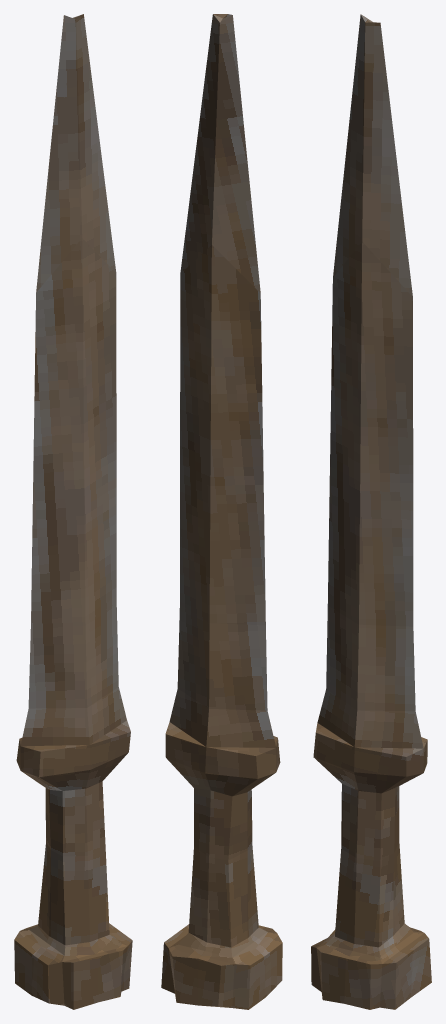
Rendered from Rusty Sword.fbx.
3 renders of one model, left to right at view 1: azimuth 30°, elevation 25°; view 2: azimuth 150°, elevation 25°; view 3: azimuth 330°, elevation 25°, orthographic.
Parts seen in each view (by area): view 1: Rusty Sword; view 2: Rusty Sword; view 3: Rusty Sword.
Part boxes in pixels (x1,y1,x2,y2): Rusty Sword: (14, 14, 132, 1009); Rusty Sword: (161, 14, 282, 1009); Rusty Sword: (311, 14, 431, 1009).
Size of the model in its own units: 8.25 by 72.14 by 6.82.
1 material, 1 textured.
